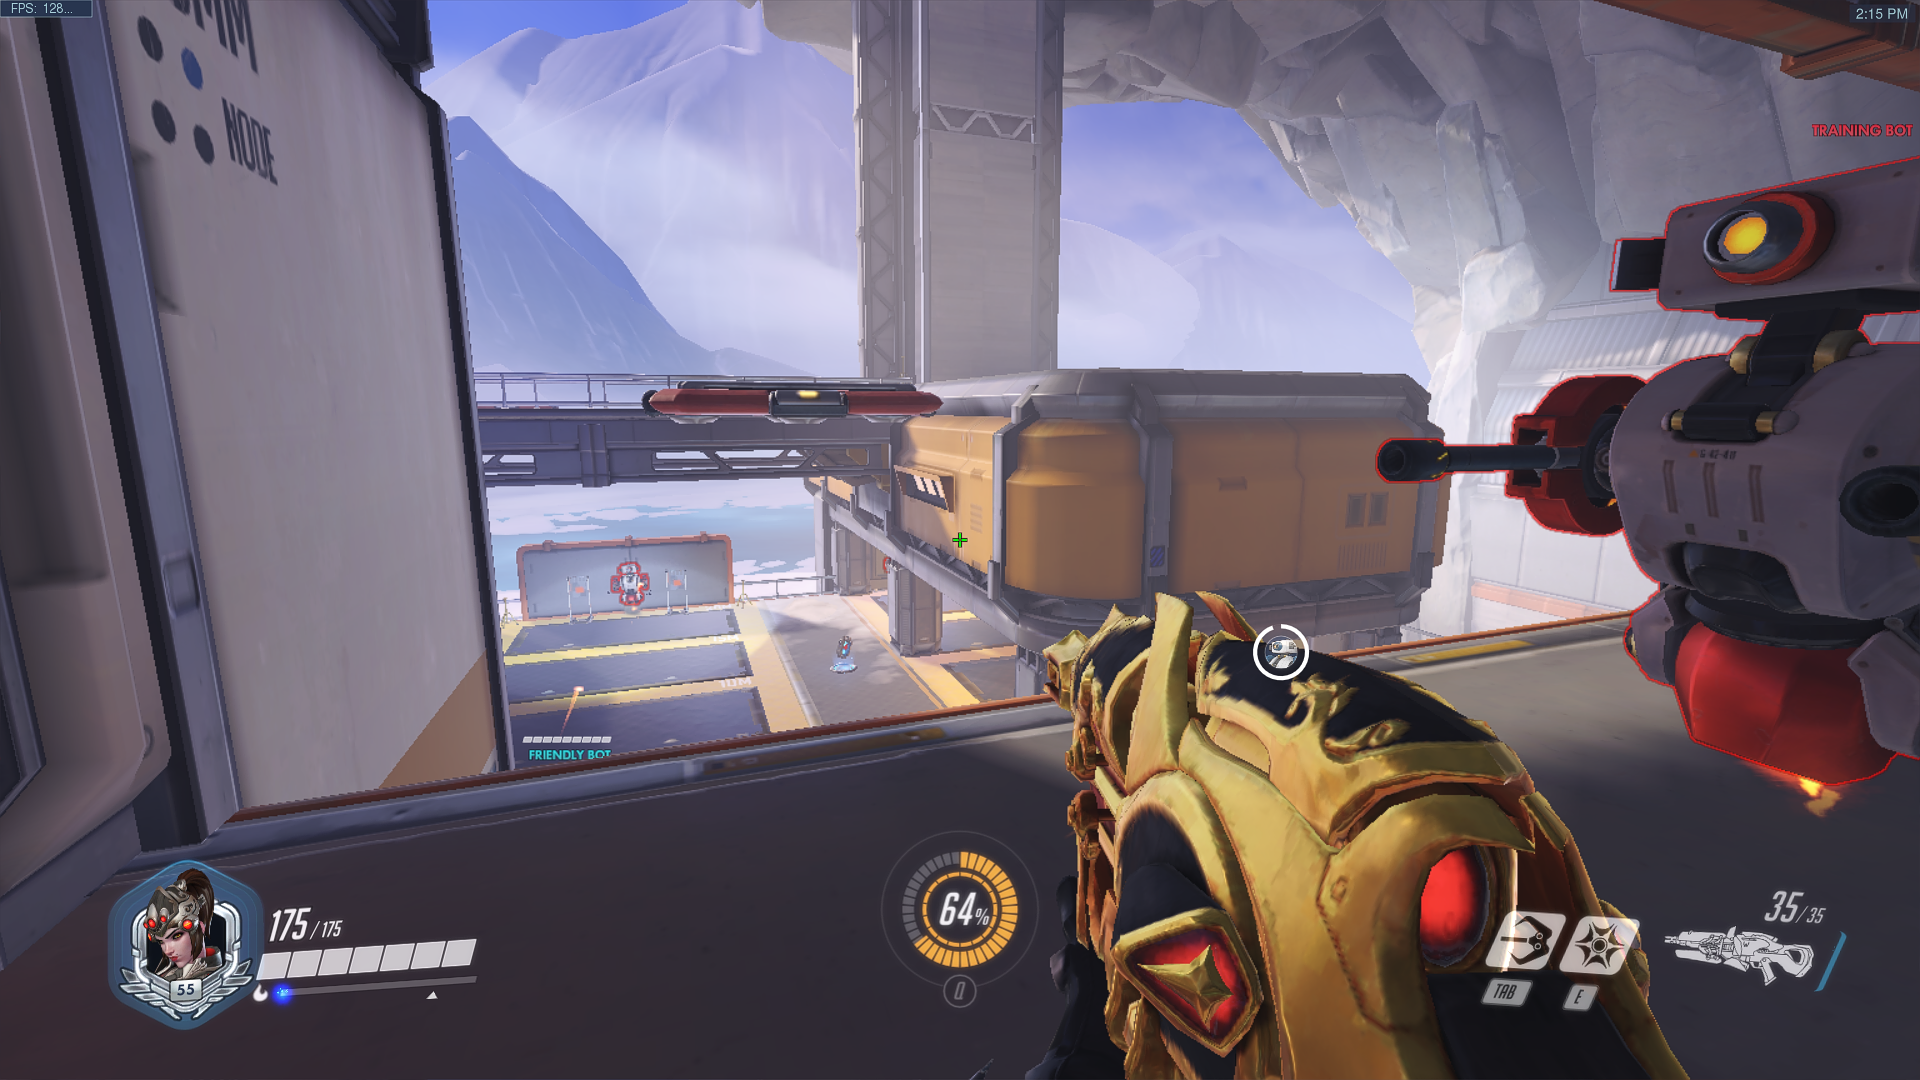head: (1622, 181, 1916, 314), (609, 565, 646, 581)
